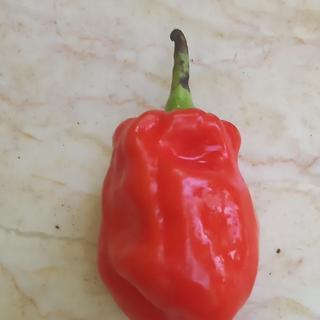Grade-A: (86, 106, 262, 317)
